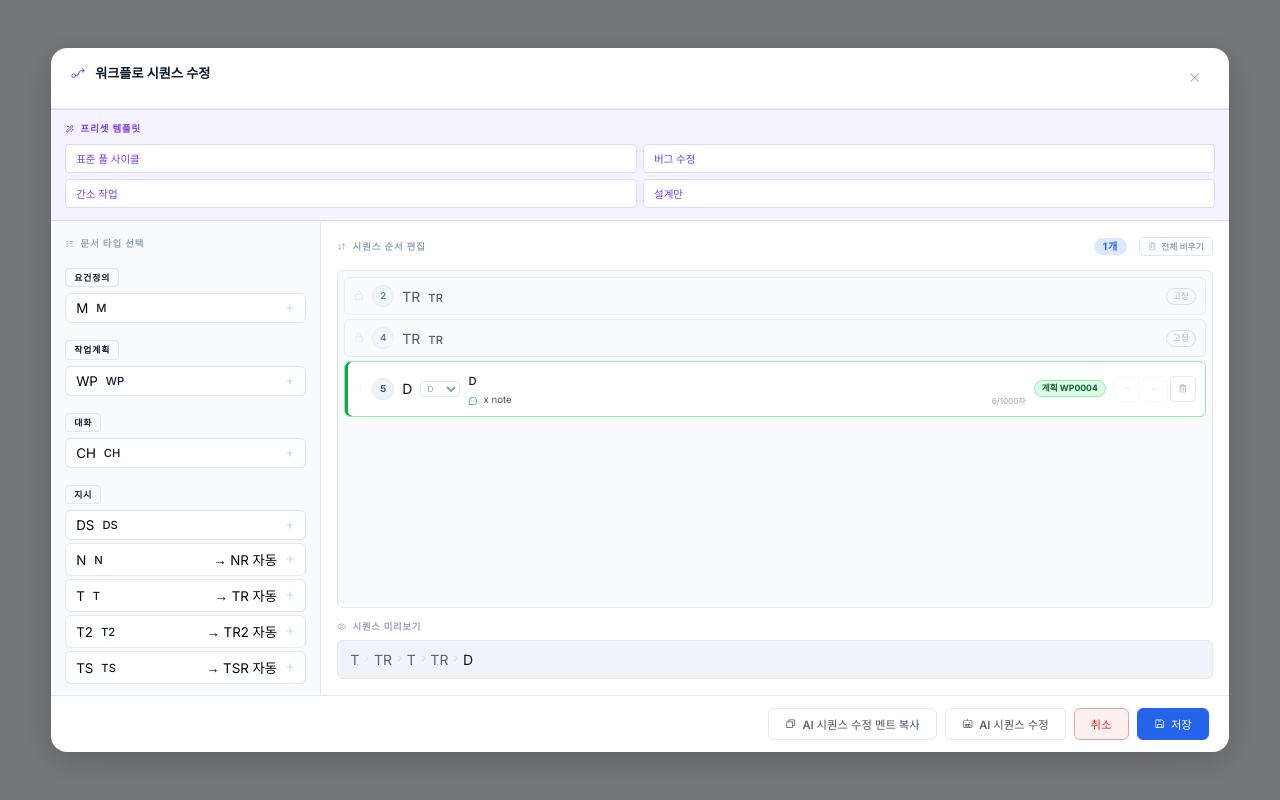
시퀀스 수정 창 — 보호 행과 item_id (NR0003 O1) › protected_row_echo_ambiguous 를 받으면 다시 불러오기를 안내하고, 다시 불러오면 저장할 수 있다
This screenshot has width=1280, height=800.
Click the button "저장" at (1173,724), box [1136, 708, 1209, 740]
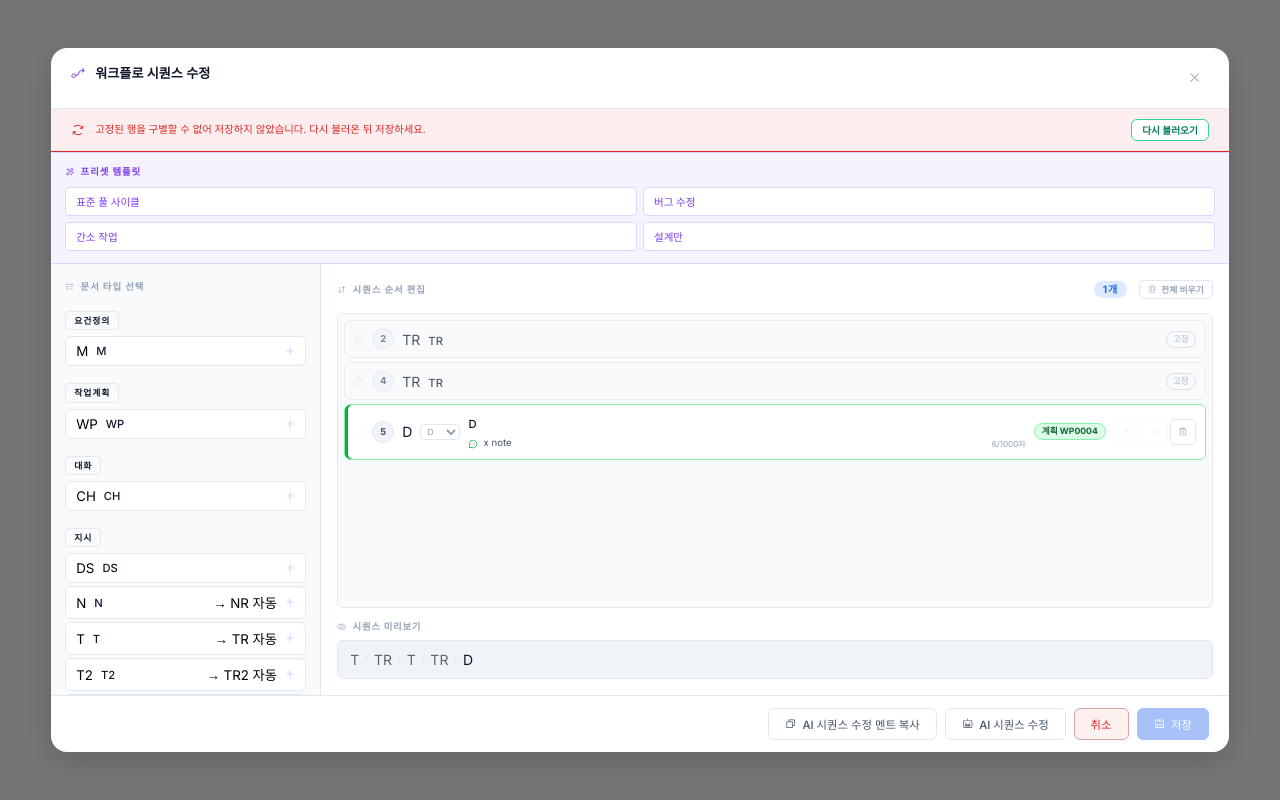
Expected: the element with test id "reload-needed" shows "고정된 행을 구별할 수 없어 저장하지 않았습니다. 다시 불러온 뒤 저장하세요.", [95, 123, 426, 135]
Expected: the button "저장" is disabled, [1136, 708, 1209, 740]
Click the button with test id "reload-sequence" at (1170,130), box [1131, 119, 1209, 141]
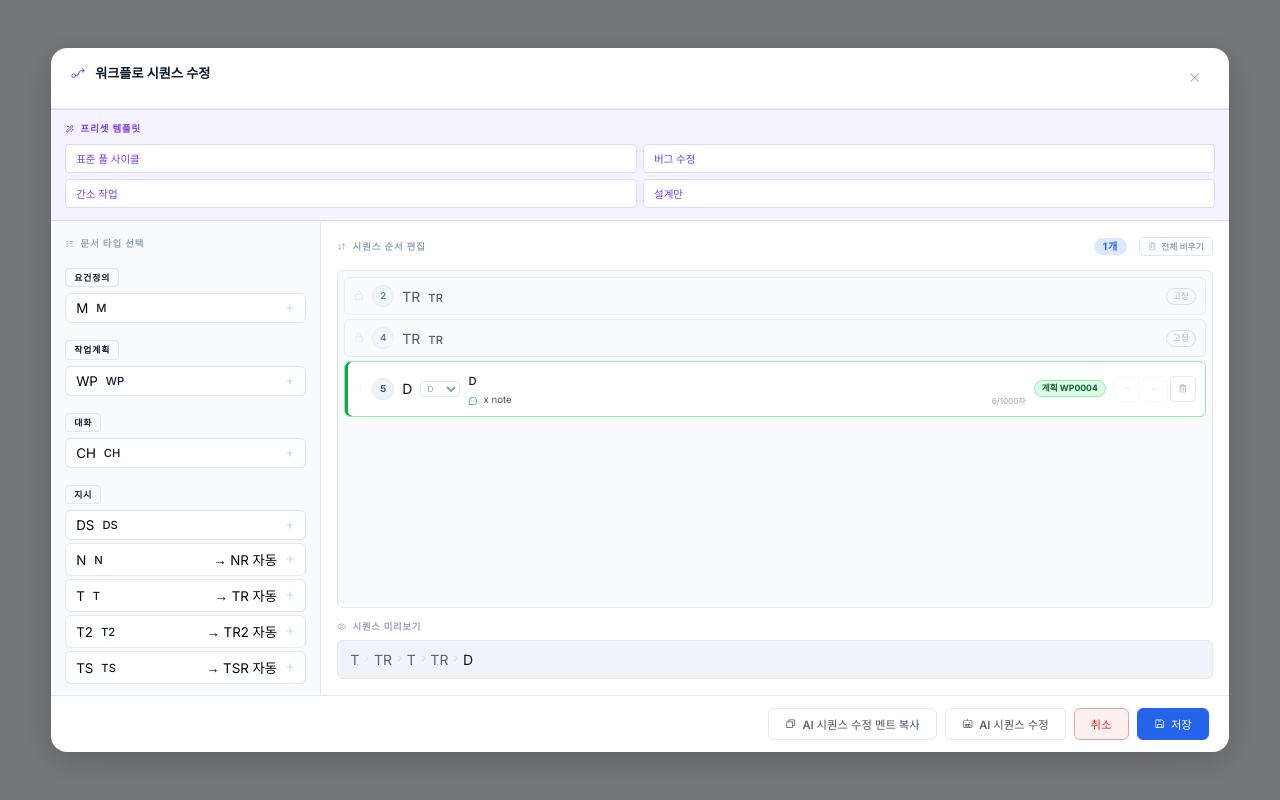
Expected: the button "저장" is enabled, [1136, 708, 1209, 740]
